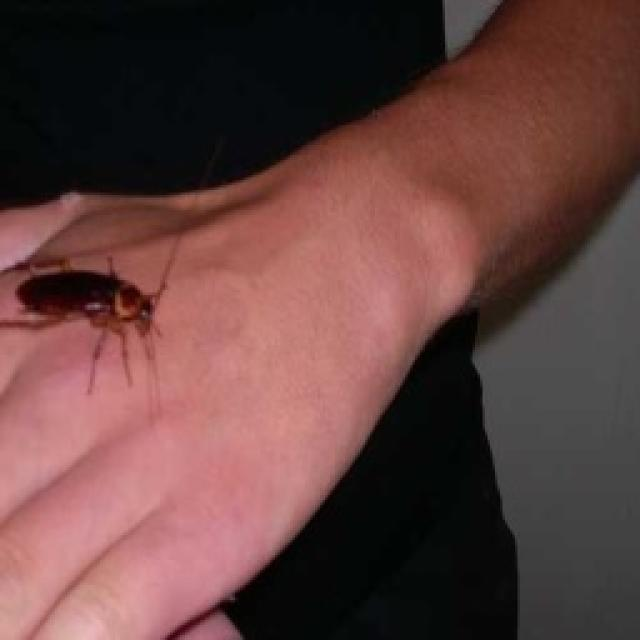cockroach: (2, 224, 191, 424)
